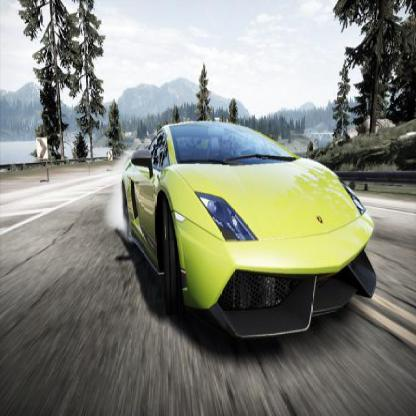Vehicle: (122, 122, 378, 341)
